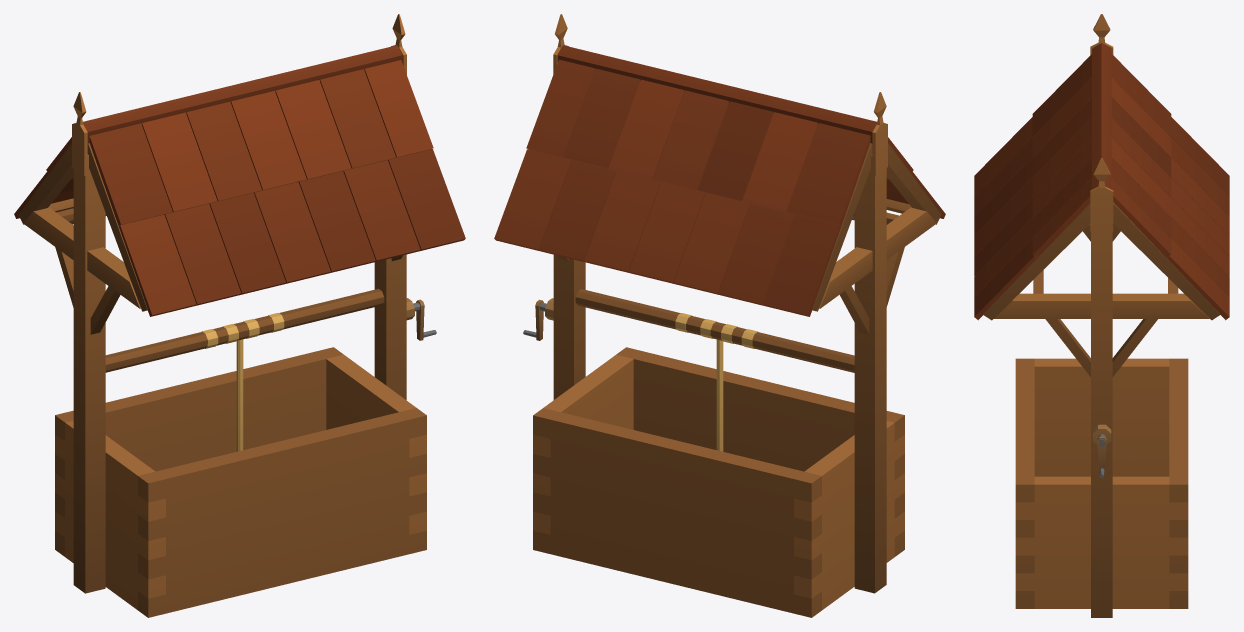
File: Bld_Well_03.obj
3 views of the same model, side by side, from view 1: azimuth 30°, elevation 25°; view 2: azimuth 150°, elevation 25°; view 3: azimuth 270°, elevation 25° (orthographic). The views are drawn at different scales.
Parts seen in each view (by area): view 1: Bld_Well_03; view 2: Bld_Well_03; view 3: Bld_Well_03, Bld_Well_Crank_03.
Part boxes in pixels (x1,y1,x2,y2): Bld_Well_03: [14, 14, 465, 617]; Bld_Well_03: [494, 14, 945, 617]; Bld_Well_03: [974, 14, 1229, 617]; Bld_Well_Crank_03: [1092, 424, 1111, 478].
Size of the model in its own units: 2.61 by 3.47 by 1.75.
1 material, 1 textured.
